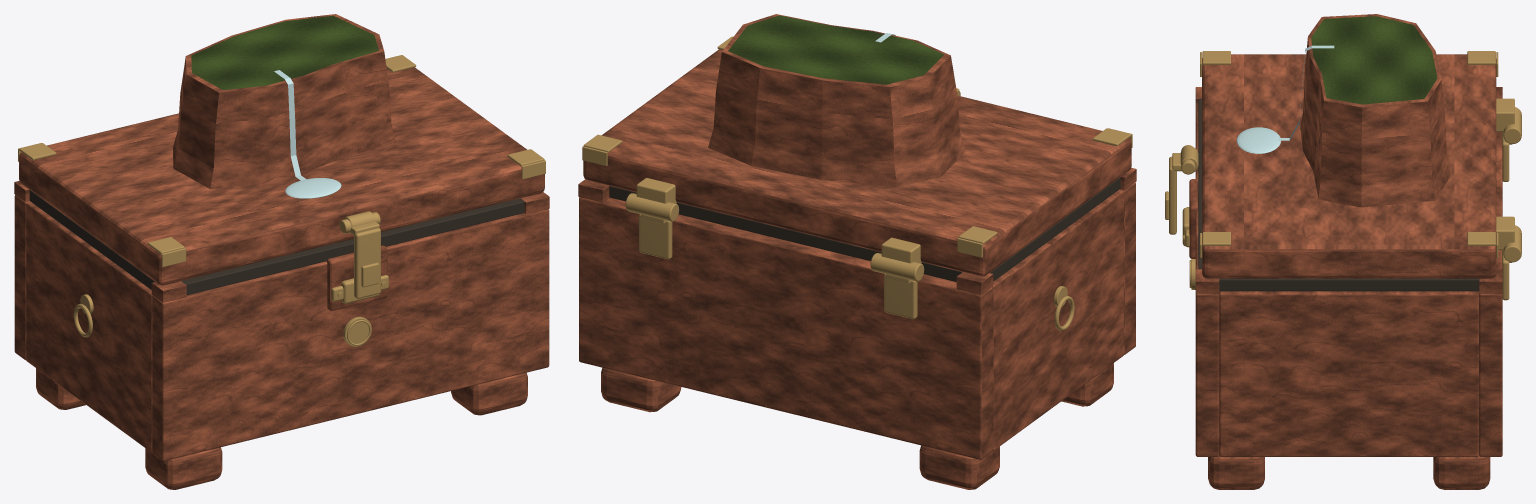
File: venezuela.glb
The picture shows the model from 3 angles, left to right: view 1: azimuth 30°, elevation 25°; view 2: azimuth 150°, elevation 25°; view 3: azimuth 270°, elevation 25°; orthographic projection. The views are drawn at different scales.
Parts seen in each view (by area): view 1: Sandstone / wall, Lid / polished slab, Tepui / sandstone massif, Sandstone / side, Tepui / summit vegetation, Weathered seam / long, Stone foot, Stone foot.002, Sandstone / wall.001, Weathered seam / side, Sandstone / clasp seat, Latch / lifting hasp (+5 smaller); view 2: Sandstone / wall.001, Lid / polished slab, Tepui / sandstone massif, Sandstone / side, Tepui / summit vegetation, Weathered seam / long.001, Stone foot.001, Stone foot.003, Sandstone / wall, Weathered seam / side, Hinge / fixed mount, Hinge / fixed mount.001 (+6 smaller); view 3: Lid / polished slab, Sandstone / side.001, Tepui / sandstone massif, Tepui / summit vegetation, Sandstone / wall.001, Sandstone / wall, Weathered seam / side.001, Stone foot.003, Stone foot.002, Tepui / basin, Sandstone / clasp seat, Weathered seam / long (+11 smaller).
Part boxes in pixels (x1=…): Sandstone / wall: x1=152, y1=209, x2=549, y2=460; Lid / polished slab: x1=19, y1=67, x2=544, y2=285; Tepui / sandstone massif: x1=172, y1=14, x2=396, y2=189; Sandstone / side: x1=26, y1=202, x2=152, y2=452; Tepui / summit vegetation: x1=191, y1=15, x2=378, y2=89; Weathered seam / long: x1=181, y1=198, x2=524, y2=295; Stone foot: x1=145, y1=447, x2=222, y2=489; Stone foot.002: x1=451, y1=372, x2=527, y2=415; Sandstone / wall.001: x1=14, y1=195, x2=30, y2=360; Weathered seam / side: x1=29, y1=190, x2=154, y2=289; Sandstone / clasp seat: x1=327, y1=245, x2=387, y2=310; Latch / lifting hasp: x1=354, y1=228, x2=380, y2=298; Sandstone / wall.001: x1=579, y1=197, x2=992, y2=459; Lid / polished slab: x1=583, y1=49, x2=1131, y2=276; Tepui / sandstone massif: x1=708, y1=14, x2=965, y2=187; Sandstone / side: x1=992, y1=189, x2=1123, y2=450; Tepui / summit vegetation: x1=728, y1=15, x2=943, y2=84; Weathered seam / long.001: x1=609, y1=186, x2=962, y2=281; Stone foot.001: x1=919, y1=445, x2=999, y2=489; Stone foot.003: x1=601, y1=367, x2=681, y2=412; Sandstone / wall: x1=1119, y1=182, x2=1135, y2=354; Weathered seam / side: x1=990, y1=177, x2=1120, y2=281; Hinge / fixed mount: x1=884, y1=274, x2=917, y2=319; Hinge / fixed mount.001: x1=639, y1=214, x2=672, y2=259; Lid / polished slab: x1=1202, y1=54, x2=1496, y2=278; Sandstone / side.001: x1=1219, y1=291, x2=1479, y2=456; Tepui / sandstone massif: x1=1300, y1=14, x2=1450, y2=207; Tepui / summit vegetation: x1=1311, y1=16, x2=1437, y2=104; Sandstone / wall.001: x1=1479, y1=132, x2=1502, y2=456; Sandstone / wall: x1=1195, y1=111, x2=1219, y2=456; Weathered seam / side.001: x1=1219, y1=278, x2=1479, y2=291; Stone foot.003: x1=1433, y1=455, x2=1490, y2=489; Stone foot.002: x1=1208, y1=455, x2=1264, y2=489; Tepui / basin: x1=1236, y1=127, x2=1280, y2=153; Sandstone / clasp seat: x1=1189, y1=179, x2=1198, y2=258; Weathered seam / long: x1=1198, y1=98, x2=1201, y2=269.
Bounding box in the file's own units: 3.79 × 3.11 × 2.88.
Materials: 5 (2 with a texture image).
